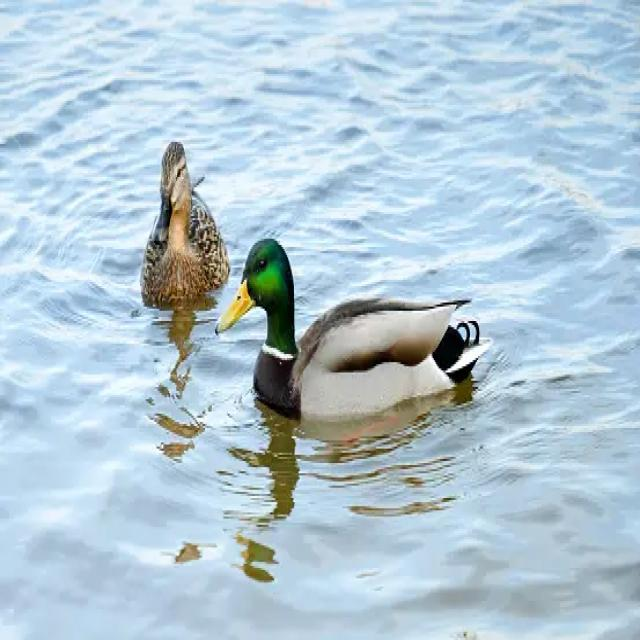ducks: (209, 187, 484, 539), (120, 95, 236, 365)
